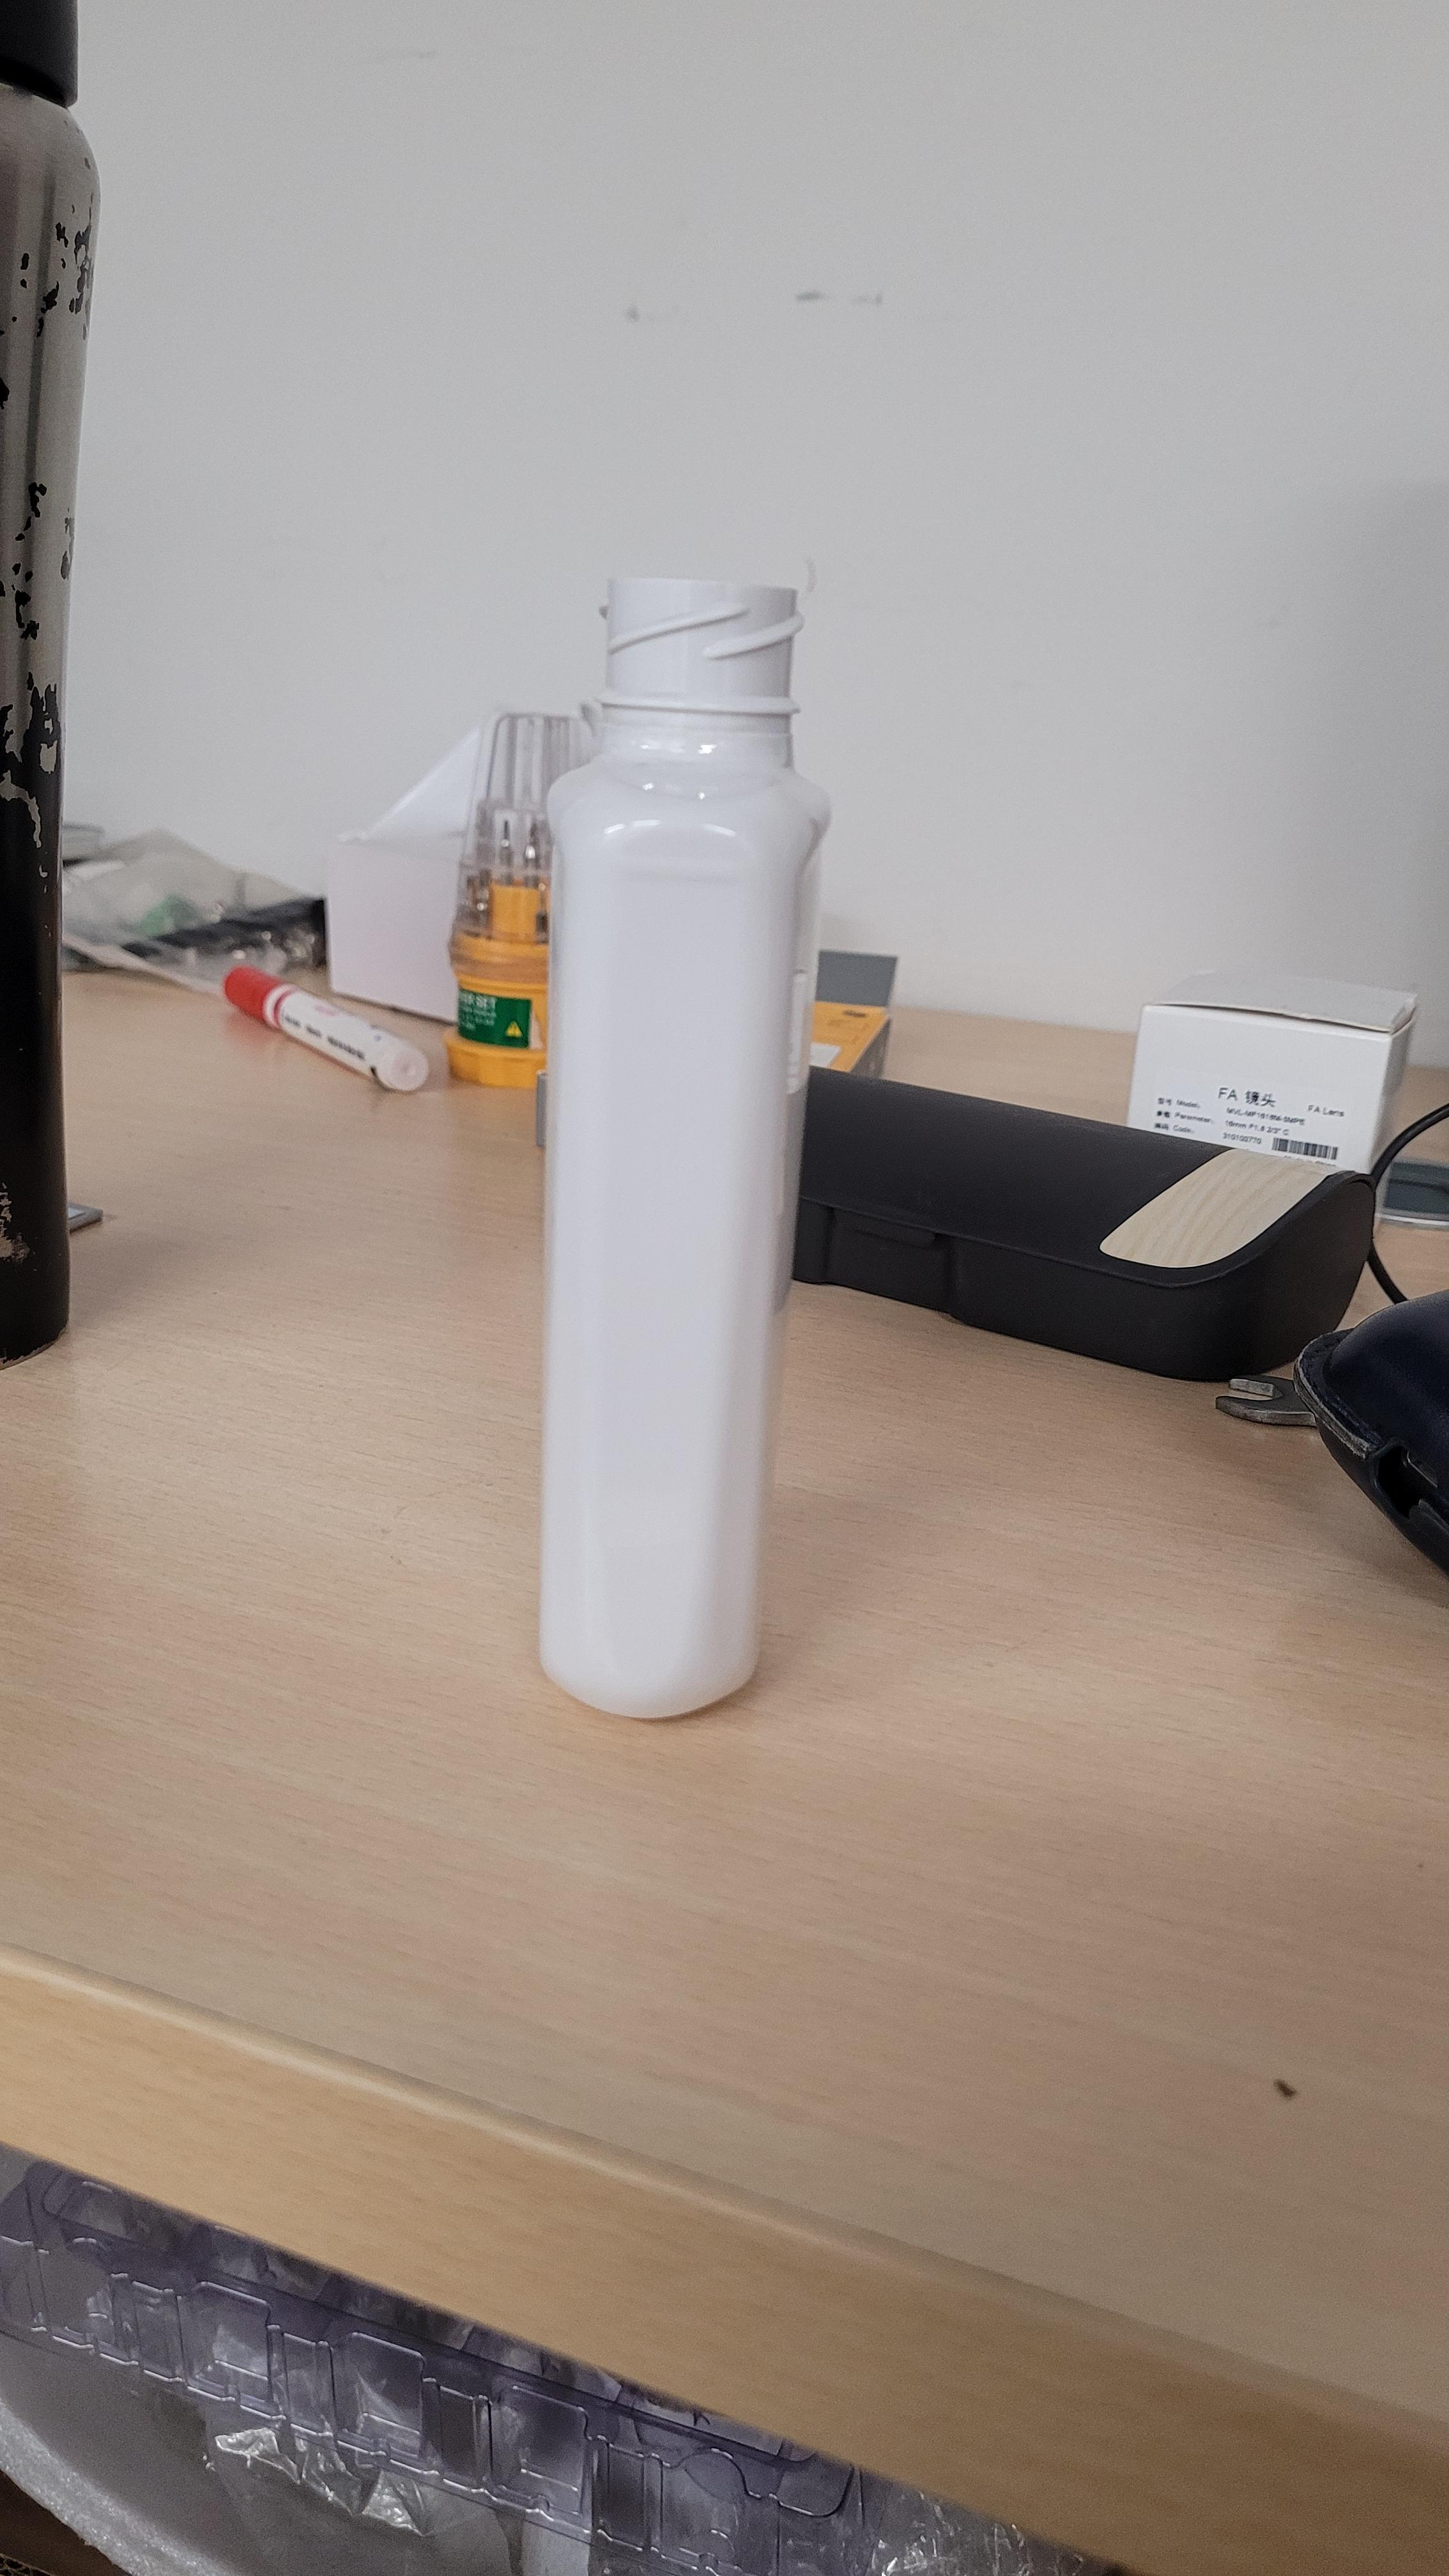Bad: (492, 525, 860, 1783)
